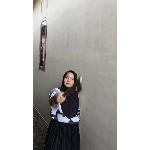Kapak: (56, 74, 85, 102)
